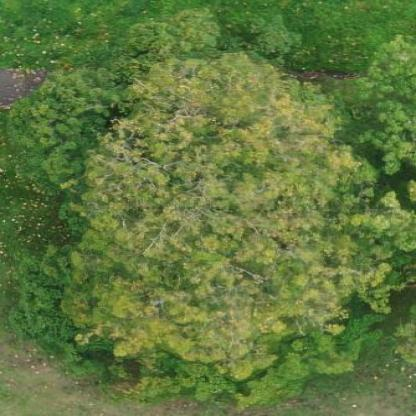Deciduous Tree: (38, 22, 398, 395)
